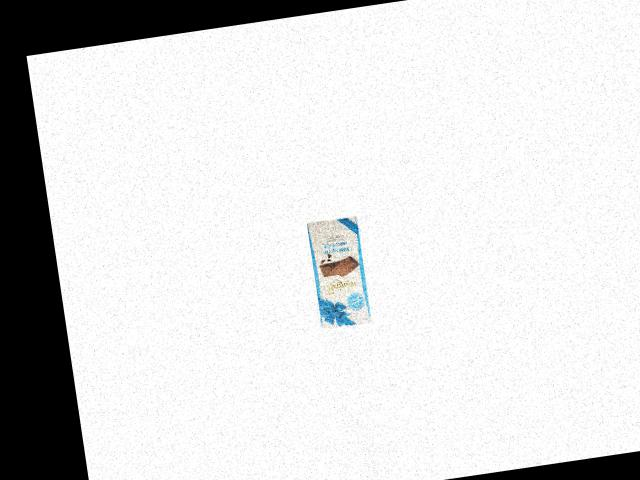chocolate: (298, 212, 376, 331)
